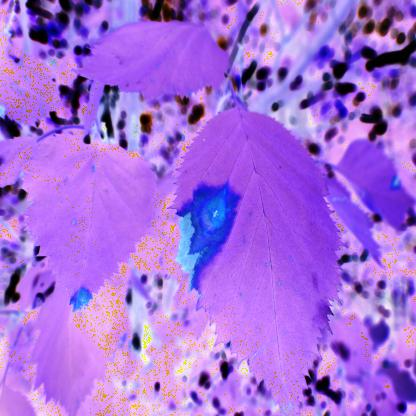Apple rust leaf: (166, 97, 351, 407), (25, 125, 163, 327)
